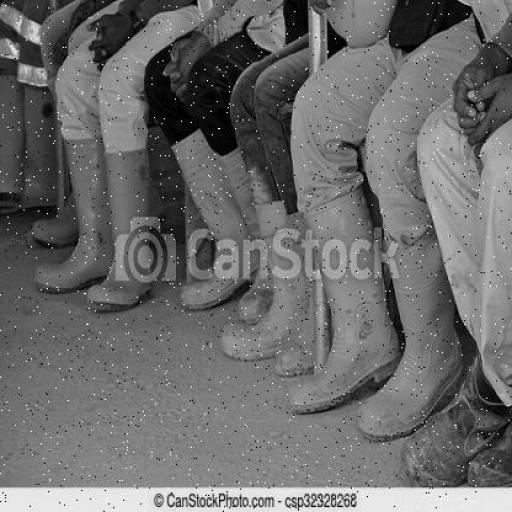safety_shoe: (302, 198, 385, 410), (172, 136, 246, 312), (383, 234, 451, 412), (416, 357, 502, 485), (240, 209, 302, 362), (52, 142, 113, 294), (102, 146, 154, 309)
